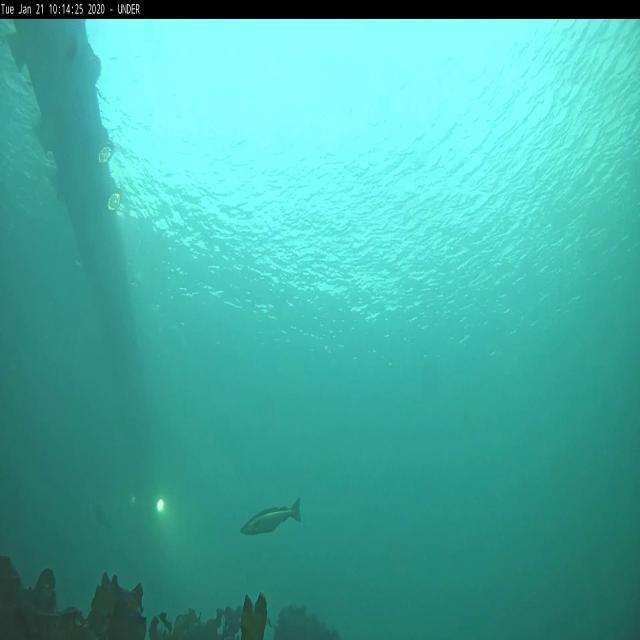fish: (241, 498, 302, 537)
